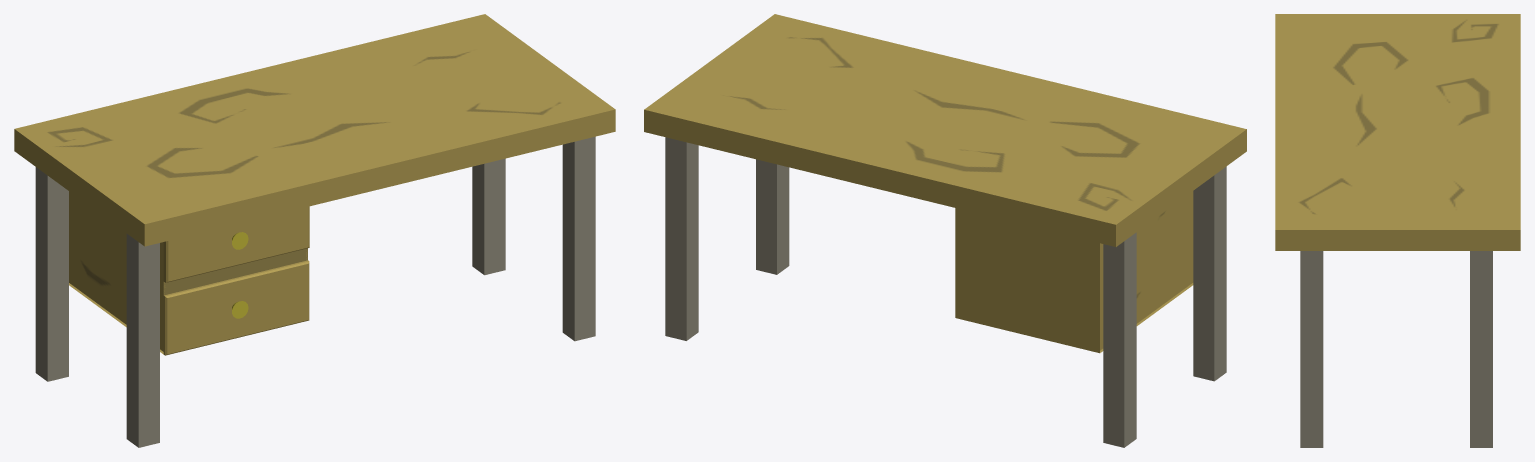
File: goodtable.fbx
3 renders of one model, left to right at view 1: azimuth 30°, elevation 25°; view 2: azimuth 150°, elevation 25°; view 3: azimuth 270°, elevation 25°, orthographic. The views are drawn at different scales.
Visible parts, largest first — view 1: pCube6; view 2: pCube6; view 3: pCube6.
Part boxes in pixels (x1,y1,x2,y2): pCube6: [14, 14, 615, 447]; pCube6: [644, 14, 1246, 447]; pCube6: [1275, 14, 1520, 447].
Size of the model in its own units: 17.2 by 8.2 by 8.25.
Materials: 1 (1 with a texture image).
